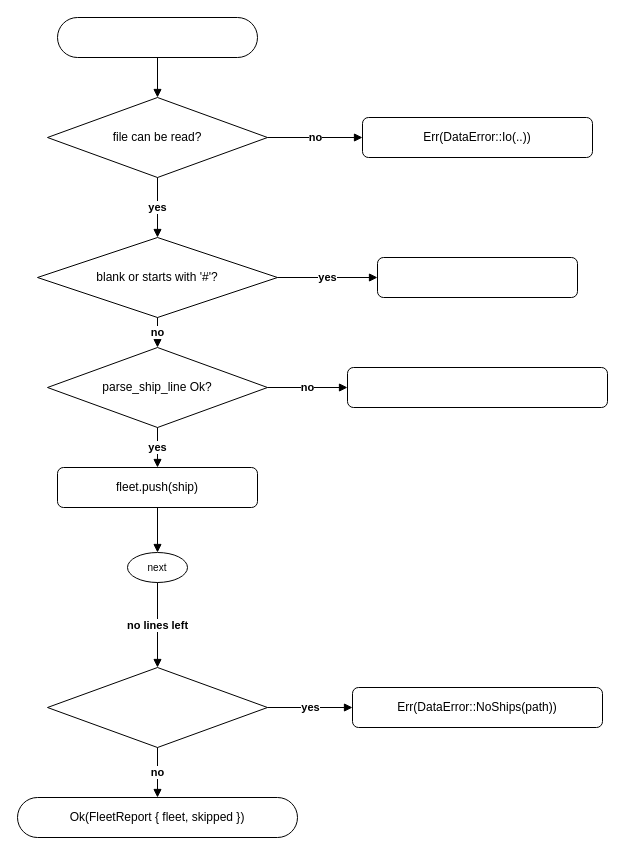
The diagram is 625 pixels wide and 855 high, and some of its shapes have lost their labels. The shapes that lost their labels are listed below. From the top down, each one's centre as x and y in pixels, then its label:
At (x=157, y=37): "load_fleet(path)".
At (x=477, y=277): "skip (still counts)".
At (x=477, y=387): "skipped.push((line_number, error))".
At (x=157, y=707): "fleet is empty?".
